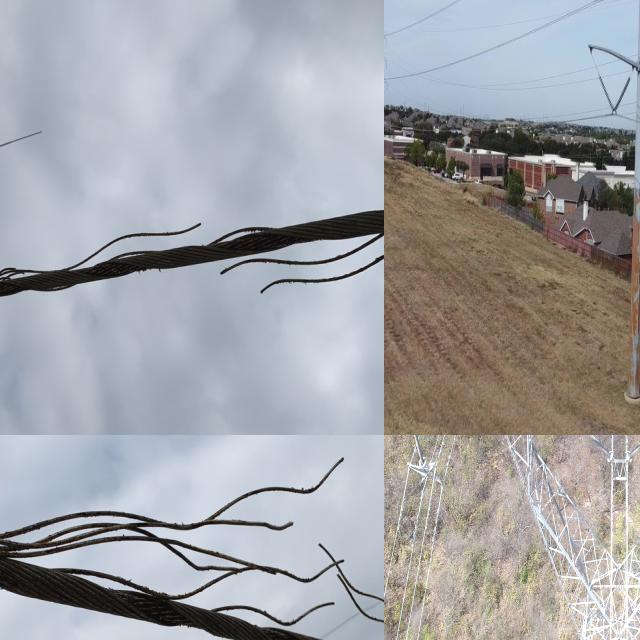杆塔: (385, 435, 640, 640), (384, 7, 391, 162)
正常绝缘子: (609, 72, 635, 121), (594, 69, 619, 119), (581, 435, 615, 466), (410, 435, 430, 474), (625, 436, 640, 465)
电缆破损: (0, 446, 384, 640), (0, 173, 384, 325)
